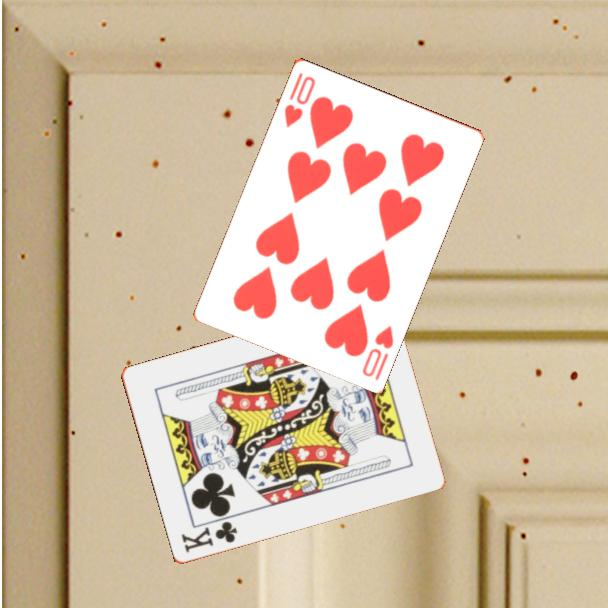c13: (177, 518, 240, 556)
h10: (280, 69, 318, 130), (358, 322, 396, 383)
